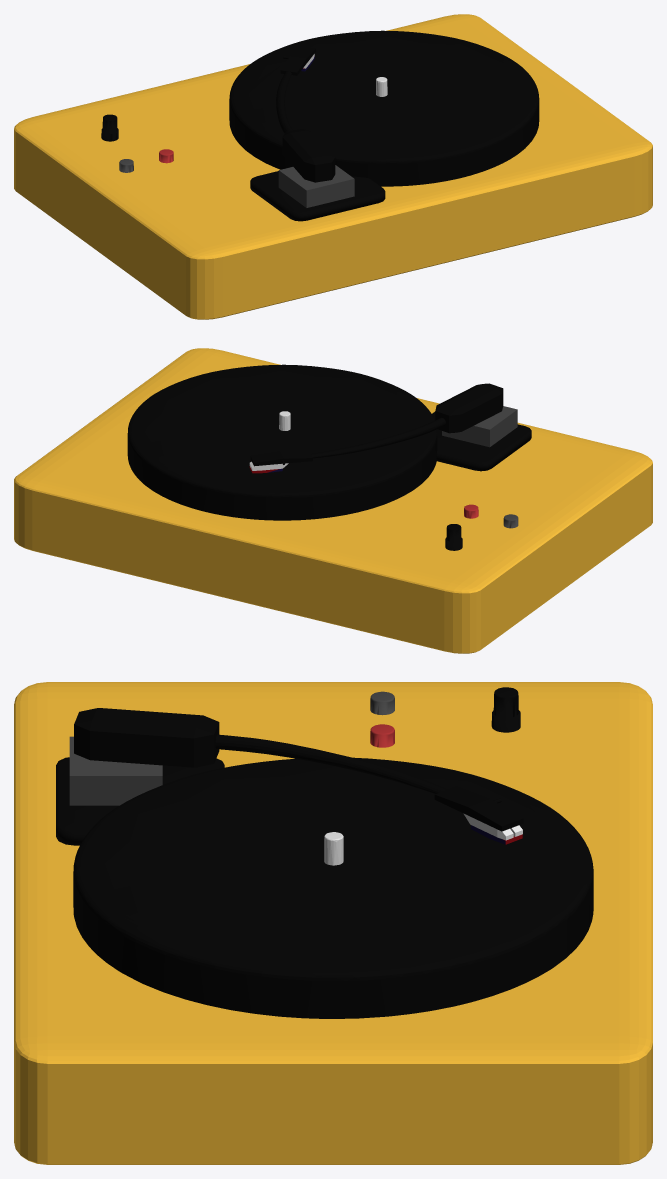
File: vinyl.fbx
3 renders of one model, top to bottom at view 1: azimuth 30°, elevation 25°; view 2: azimuth 150°, elevation 25°; view 3: azimuth 270°, elevation 25°, orthographic. The views are drawn at different scales.
Visible parts, largest first — view 1: vinyl; view 2: vinyl; view 3: vinyl.
Part boxes in pixels (box(x1,y1,x2,y2)): vinyl: box(14, 14, 652, 319); vinyl: box(14, 348, 652, 653); vinyl: box(14, 682, 652, 1164).
Size of the model in its own units: 785 by 188 by 556.
